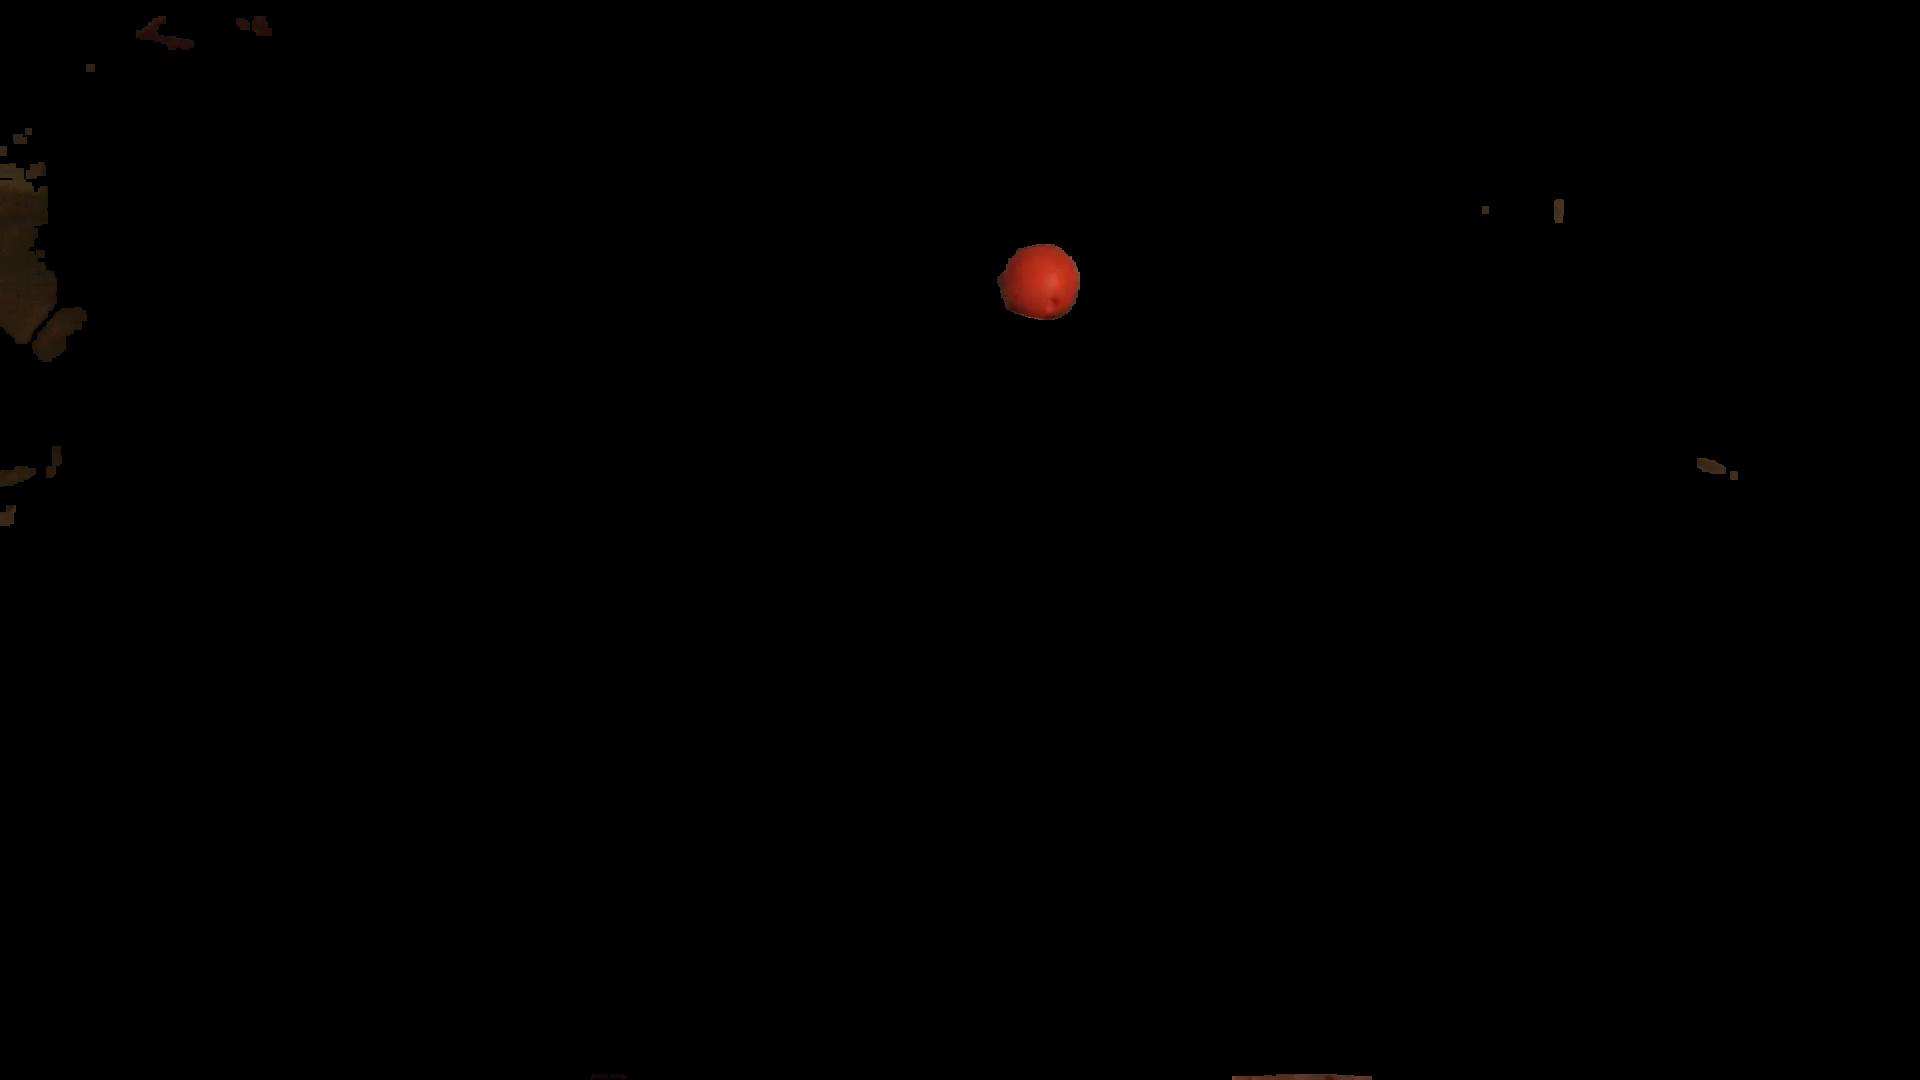Ball: (1000, 244, 1079, 319)
